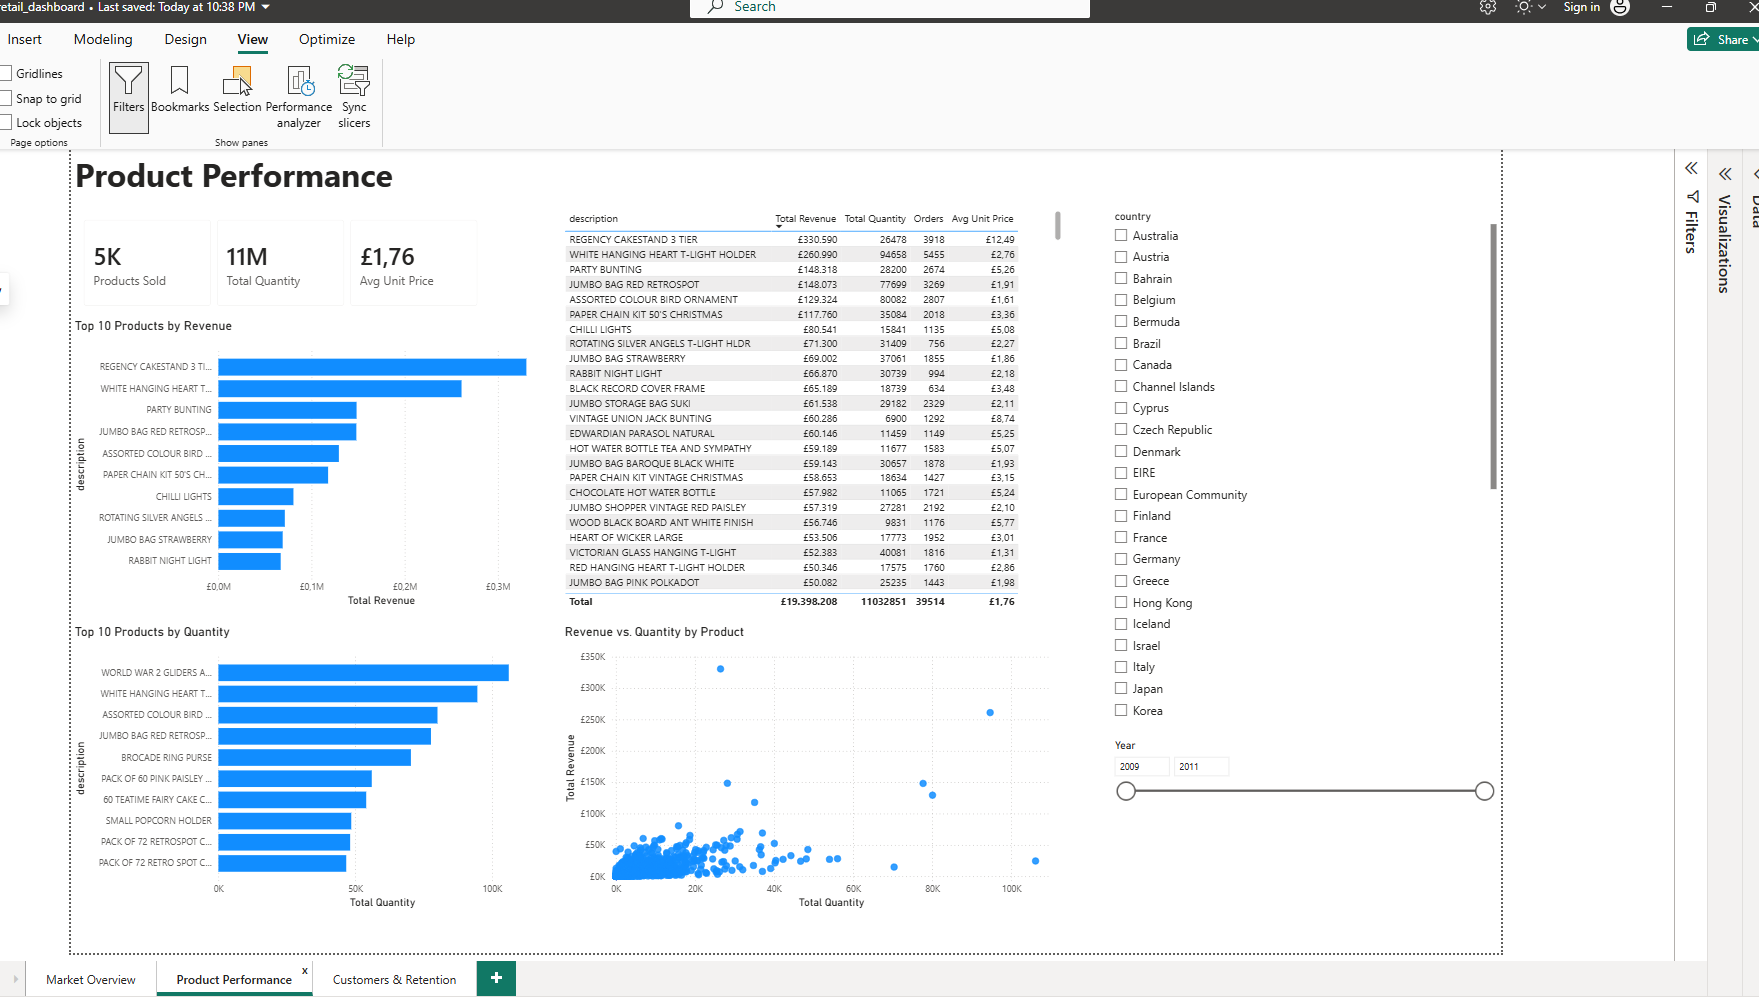

What the dashboard file says about the page in this screenshot:
{"tool":"powerbi","page":{"name":"Product Performance","canvas":[1920,1080],"ordinal":1},"visuals":[{"type":"slicer","fields":{"Values":["transactions.country"]},"box":[1388.9,77.3,531.1,694.5],"z":0},{"type":"slicer","fields":{"Values":["Dates.Year"]},"box":[1388.9,787.8,531.1,153.2],"z":1},{"type":"textbox","box":[0,0,564.6,112.3],"z":2},{"type":"cardVisual","fields":{"Data":["transactions.Products Sold","transactions.Total Quantity","transactions.Avg Unit Price"]},"box":[0,77.3,565,150],"z":3},{"type":"clusteredBarChart","title":"Top 10 Products by Revenue","fields":{"Category":["transactions.description"],"Y":["transactions.Total Revenue"]},"box":[0,227.6,658,392.5],"z":4},{"type":"clusteredBarChart","title":"Top 10 Products by Quantity","fields":{"Category":["transactions.description"],"Y":["transactions.Total Quantity"]},"box":[0,637.6,658,386.6],"z":5},{"type":"scatterChart","title":"Revenue vs. Quantity by Product","fields":{"Category":["transactions.description"],"X":["transactions.Total Quantity"],"Y":["transactions.Total Revenue"]},"box":[658,637.6,677,386.6],"z":6},{"type":"tableEx","fields":{"Values":["transactions.description","transactions.Total Revenue","transactions.Total Quantity","transactions.Orders","transactions.Avg Unit Price"]},"box":[658,77.3,677,542.7],"z":7}]}

Visuals, with their boxes on the page's 1920x1080 design canvas (x1, y1, x2, y2). These are canvas units, not pixel positions in the 1759x997 screenshot, which may show the page scaled, cropped or inside an application window:
slicer - transactions.country: locate(1389, 77, 1920, 772)
slicer - Dates.Year: locate(1389, 788, 1920, 941)
textbox: locate(0, 0, 565, 112)
cardVisual - transactions.Products Sold x transactions.Total Quantity: locate(0, 77, 565, 227)
"Top 10 Products by Revenue" clusteredBarChart: locate(0, 228, 658, 620)
"Top 10 Products by Quantity" clusteredBarChart: locate(0, 638, 658, 1024)
"Revenue vs. Quantity by Product" scatterChart: locate(658, 638, 1335, 1024)
tableEx - transactions.description x transactions.Total Revenue: locate(658, 77, 1335, 620)
